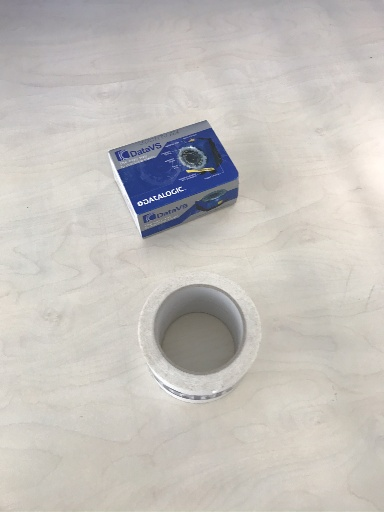Box: (107, 119, 239, 240)
Nastro: (138, 269, 262, 403)
